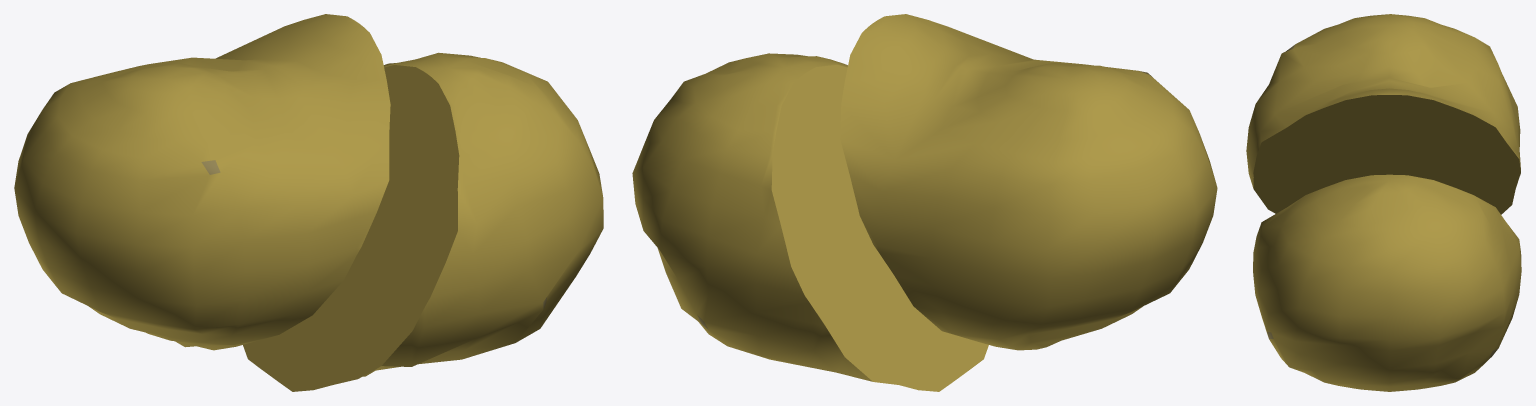
Rendered from jaga_2.fbx.
3 renders of one model, left to right at view 1: azimuth 30°, elevation 25°; view 2: azimuth 150°, elevation 25°; view 3: azimuth 270°, elevation 25°, orthographic. The views are drawn at different scales.
Parts seen in each view (by area): view 1: pSphere7; view 2: pSphere7; view 3: pSphere7.
Boxes of the visible parts, bbox=[...] form: pSphere7: bbox=[14, 14, 603, 391]; pSphere7: bbox=[632, 14, 1217, 391]; pSphere7: bbox=[1246, 14, 1521, 391].
Size of the model in its own units: 3.75 by 2.21 by 2.11.
